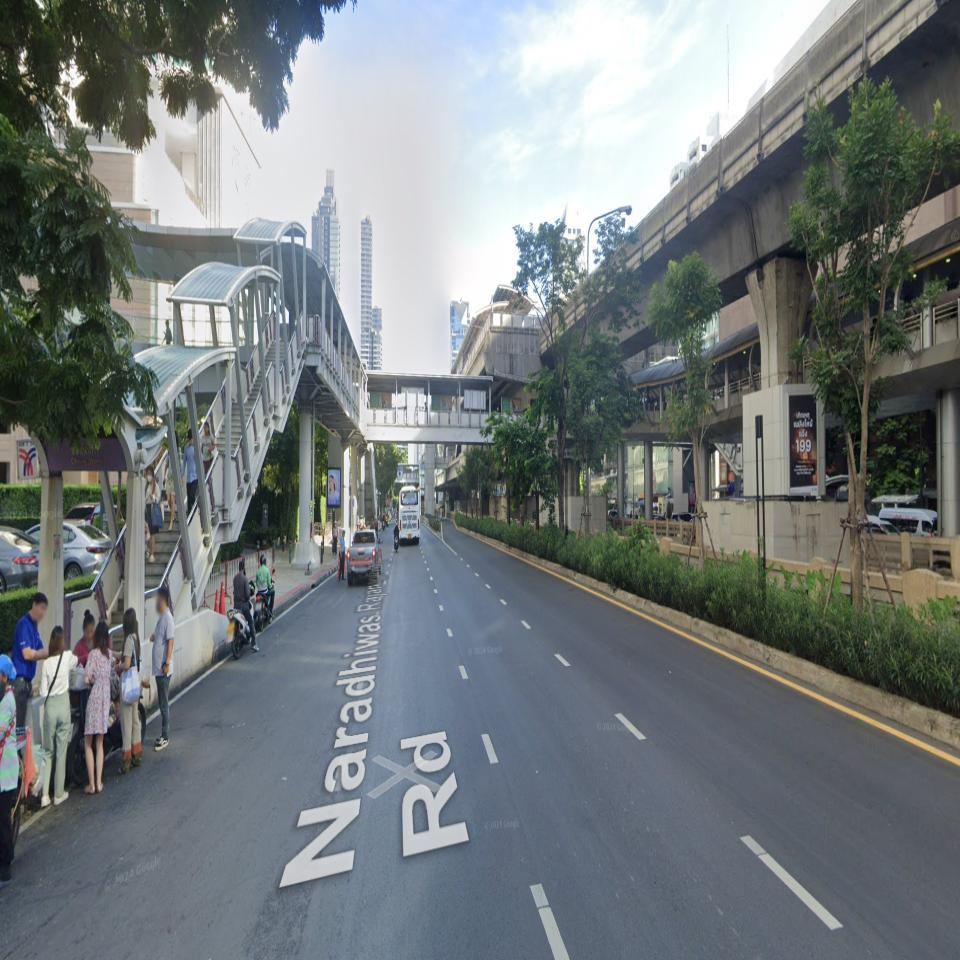signage: (16, 436, 128, 485), (41, 436, 127, 470)
